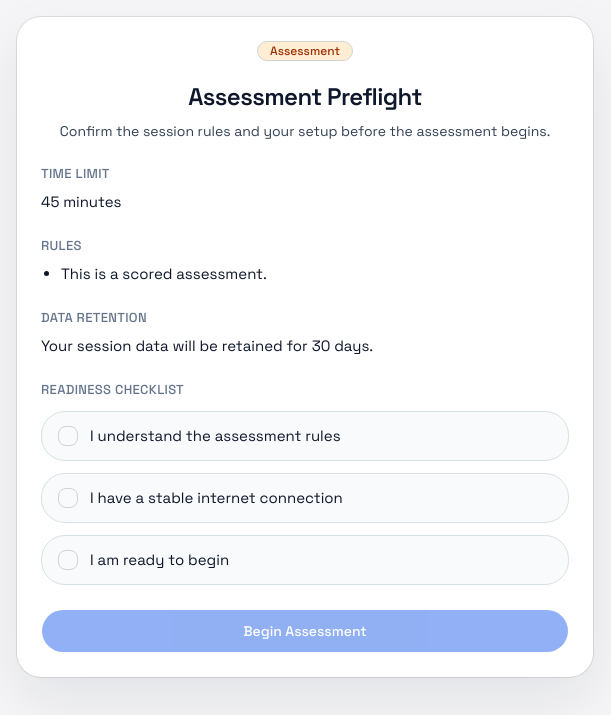
Test: SessionPreflight › renders Begin button disabled until all checkboxes are checked
This screenshot has width=611, height=715.
Expected: the button "Begin Assessment" is disabled, [41,609,569,653]
# Check first two — still disabled
Click the checkbox named "i understand the assessment rules" next to "I understand the assessment rules" at (68, 436), box [58,426,78,446]
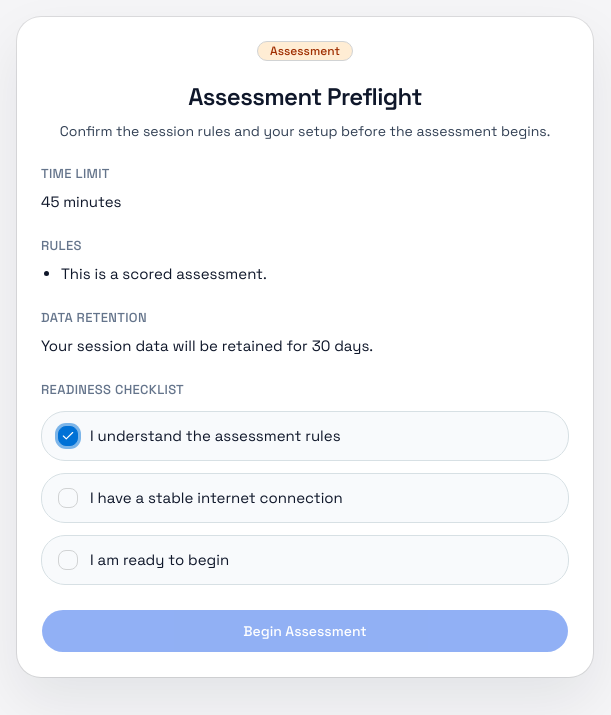
Click the checkbox named "i have a stable internet connection" next to "I have a stable internet connection" at (68, 498), box [58,488,78,508]
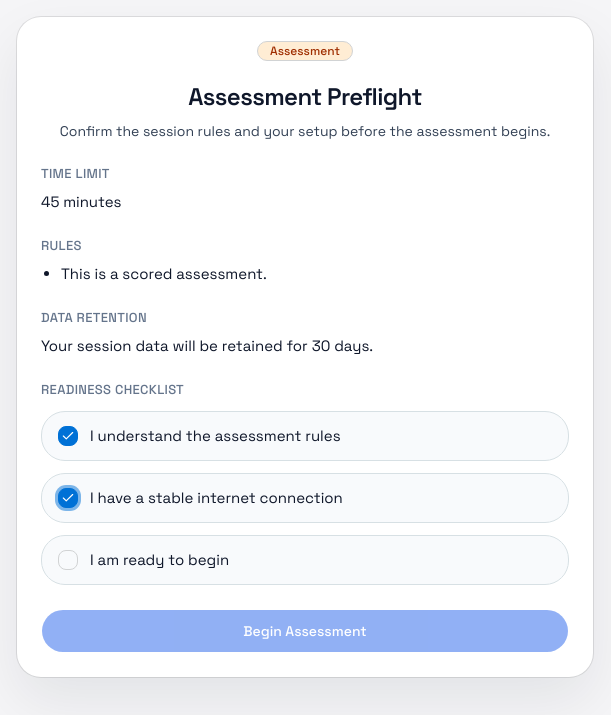
Expected: the button "Begin Assessment" is disabled, [41,609,569,653]
# Check third — now enabled
Click the checkbox named "i am ready to begin" next to "I am ready to begin" at (68, 560), box [58,550,78,570]
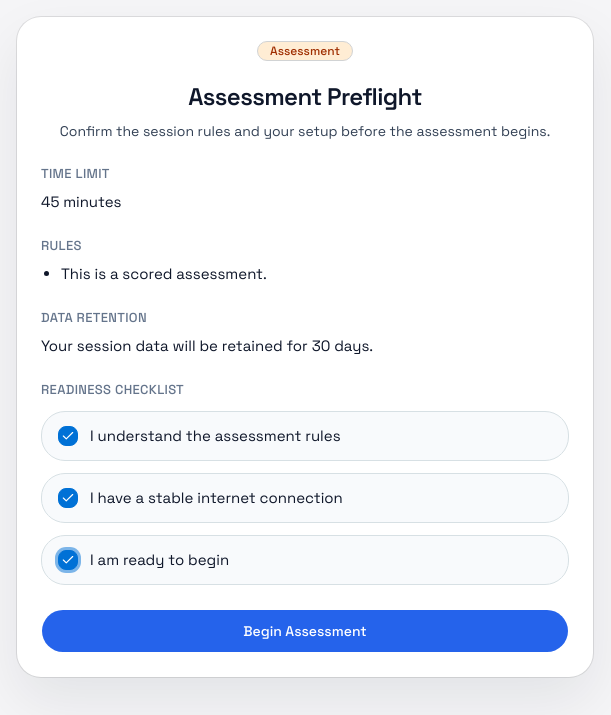
Result: the button "Begin Assessment" is enabled at [41,609,569,653]
